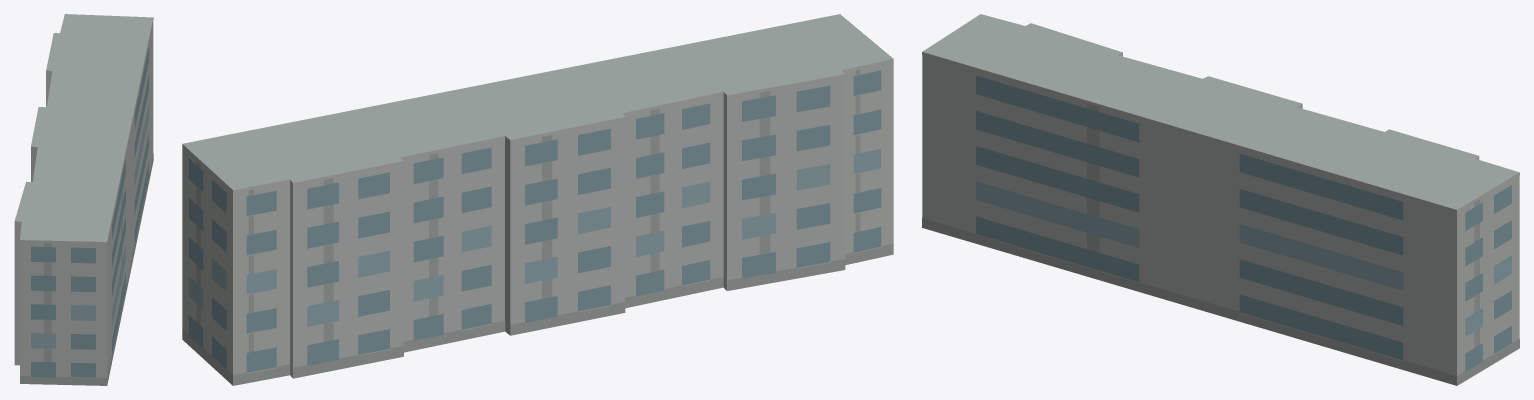
Rendered from survey-upis-32591057.glb.
3 renders of one model, left to right at view 1: azimuth 30°, elevation 25°; view 2: azimuth 150°, elevation 25°; view 3: azimuth 270°, elevation 25°, orthographic. The views are drawn at different scales.
Parts seen in each view (by area): view 1: survey-upis-32591057.tmp; view 2: survey-upis-32591057.tmp; view 3: survey-upis-32591057.tmp.
Boxes of the visible parts, x1,y1,x2,y2 form: survey-upis-32591057.tmp: (14, 14, 153, 385); survey-upis-32591057.tmp: (182, 14, 893, 385); survey-upis-32591057.tmp: (922, 14, 1519, 385).
Bounding box in the file's own units: 36.42 × 15.25 × 46.94.
